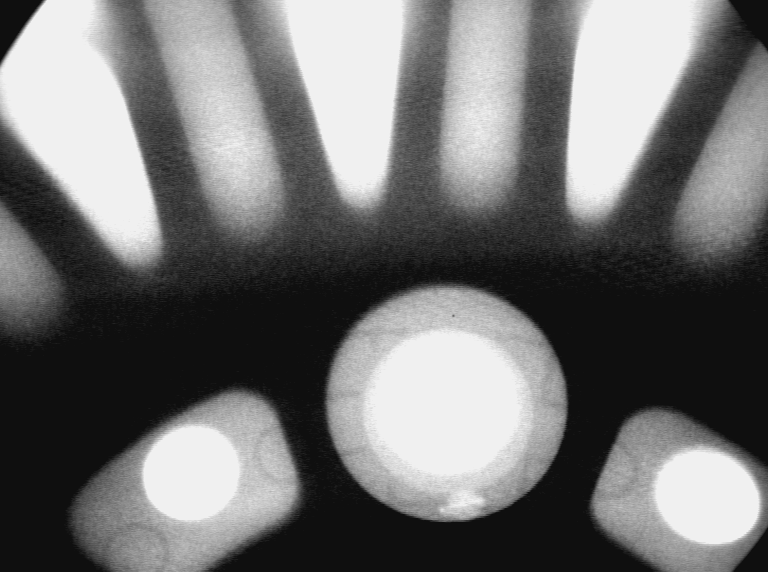defect: (440, 486, 489, 525)
